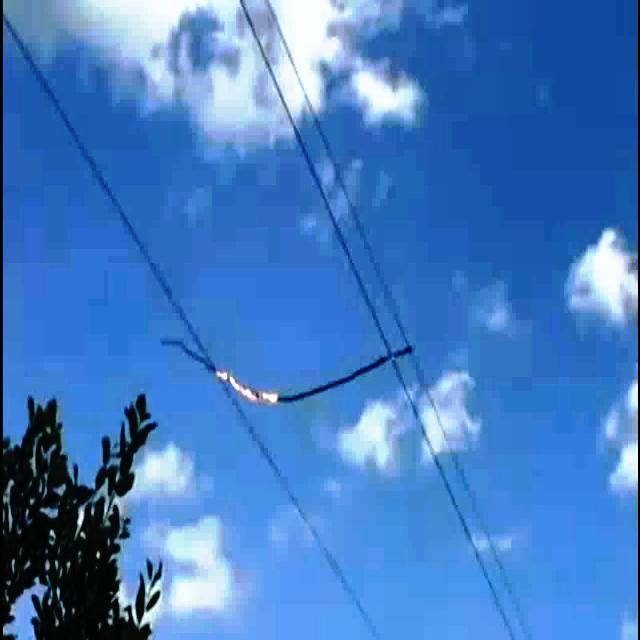obstruction: (164, 340, 412, 404)
wires: (0, 11, 211, 359), (240, 0, 390, 355), (264, 0, 408, 339), (224, 383, 379, 639), (390, 360, 516, 639), (446, 450, 530, 639), (279, 28, 311, 109), (420, 380, 450, 440), (448, 484, 460, 516)
